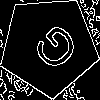G: (23, 21, 82, 81)
